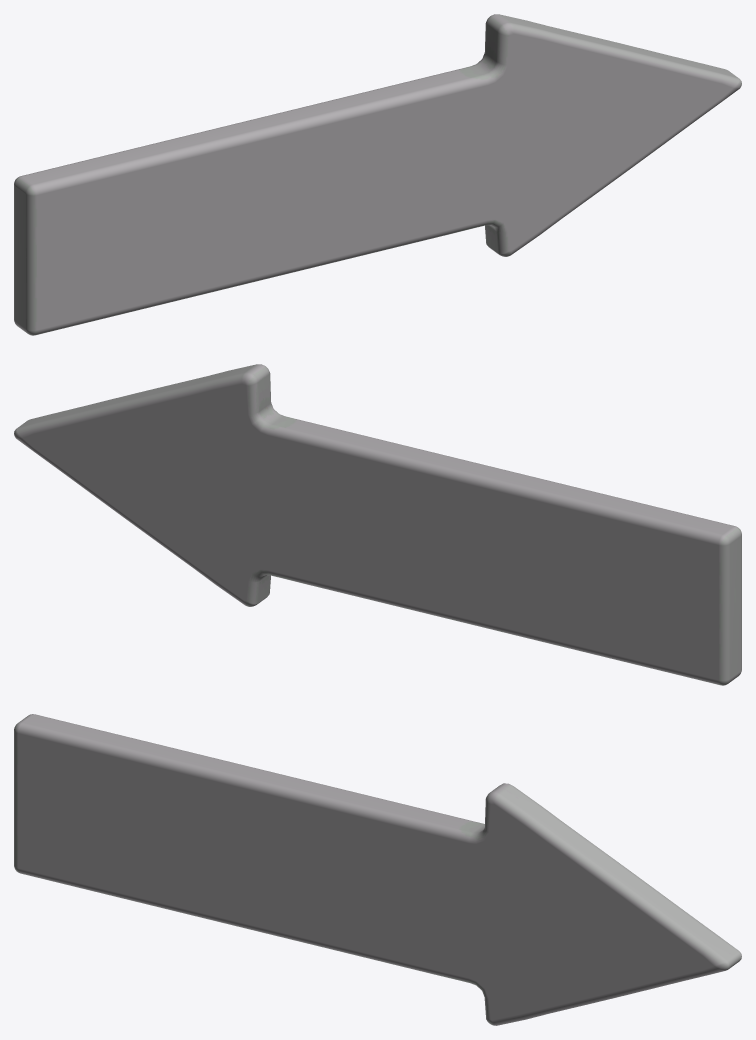
Rendered from Luminaris Starship.FBX.
The picture shows the model from 3 angles, top to bottom: view 1: azimuth 30°, elevation 25°; view 2: azimuth 150°, elevation 25°; view 3: azimuth 330°, elevation 25°; orthographic projection.
Parts seen in each view (by area): view 1: mesh_id15; view 2: mesh_id15; view 3: mesh_id15.
Boxes of the visible parts, <box> form: mesh_id15: <box>14,14,741,335</box>; mesh_id15: <box>14,364,741,685</box>; mesh_id15: <box>14,714,741,1025</box>.
Bounding box in the file's own units: 1024 × 319 × 47.3.
Materials: 1 (1 with a texture image).
